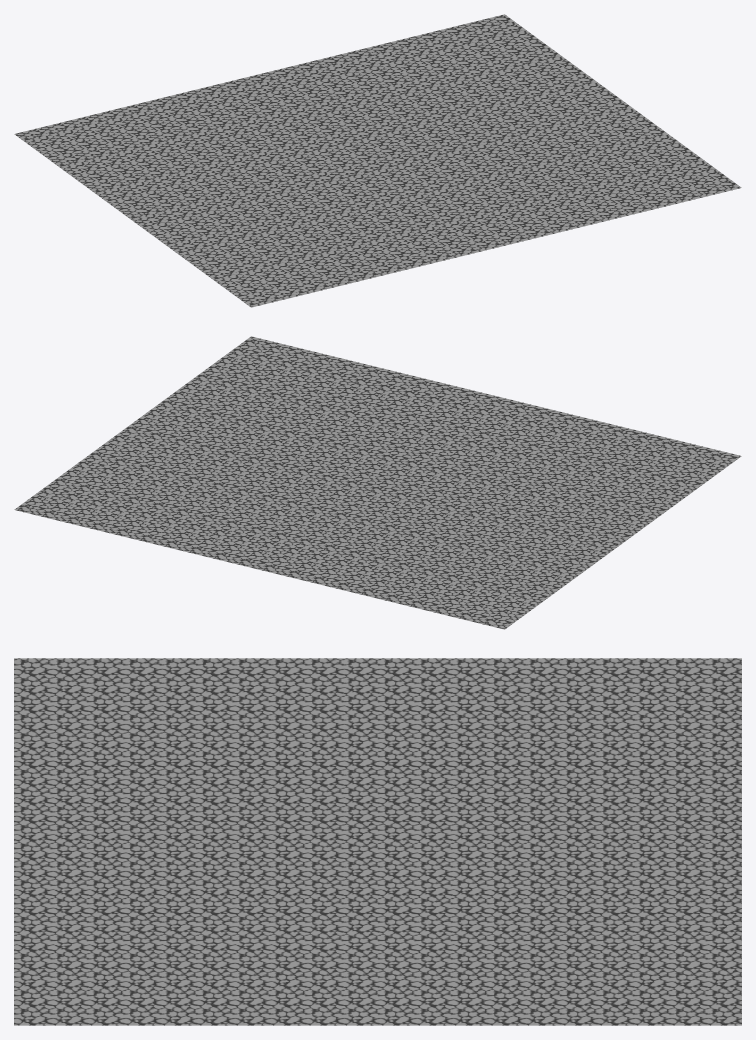
The model's file is floor.FBX.
The picture shows the model from 3 angles, top to bottom: view 1: azimuth 30°, elevation 25°; view 2: azimuth 150°, elevation 25°; view 3: azimuth 270°, elevation 25°; orthographic projection. The views are drawn at different scales.
Visible parts, largest first — view 1: Floor; view 2: Floor; view 3: Floor.
Part boxes in pixels (box(x1,y1,x2,y2)): Floor: box(14, 14, 741, 307); Floor: box(14, 336, 741, 629); Floor: box(14, 658, 741, 1025).
Size of the model in its own units: 835 by 699 by 0.
